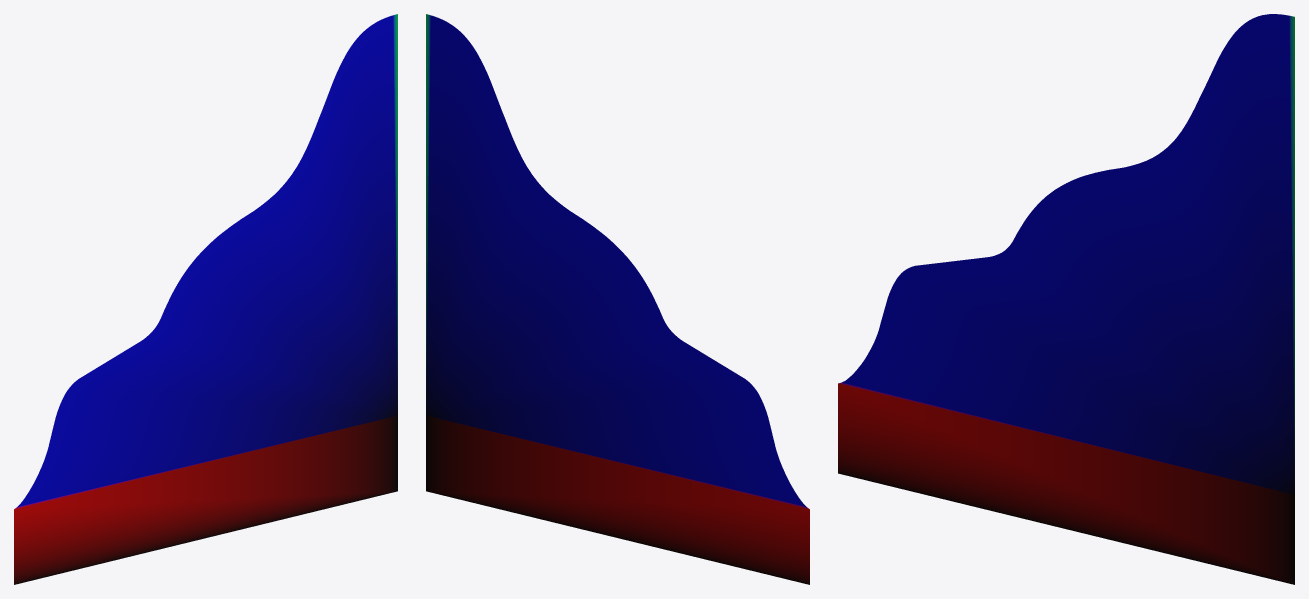
Rendered from slope2test.fbx.
The picture shows the model from 3 angles, left to right: view 1: azimuth 30°, elevation 25°; view 2: azimuth 150°, elevation 25°; view 3: azimuth 330°, elevation 25°; orthographic projection. The views are drawn at different scales.
Parts seen in each view (by area): view 1: polySurface1; view 2: polySurface1; view 3: polySurface1.
Part boxes in pixels (bbox=[...]): polySurface1: bbox=[14, 14, 397, 584]; polySurface1: bbox=[426, 14, 809, 584]; polySurface1: bbox=[838, 14, 1294, 584].
Bounding box in the file's own units: 5704 × 6778 × 0.
